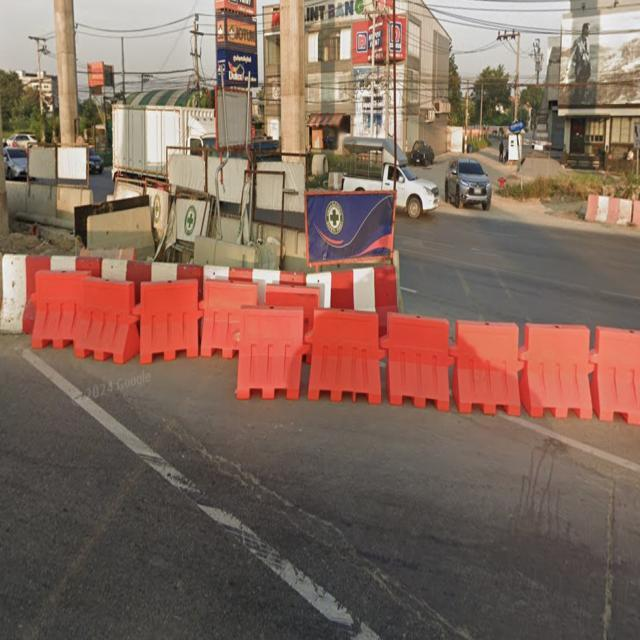fallen_object: (0, 239, 400, 319), (356, 299, 530, 418), (494, 304, 640, 433), (55, 249, 149, 378), (113, 267, 221, 378), (286, 292, 382, 410), (226, 300, 315, 405), (16, 260, 94, 360), (172, 273, 264, 353), (253, 272, 333, 323)
